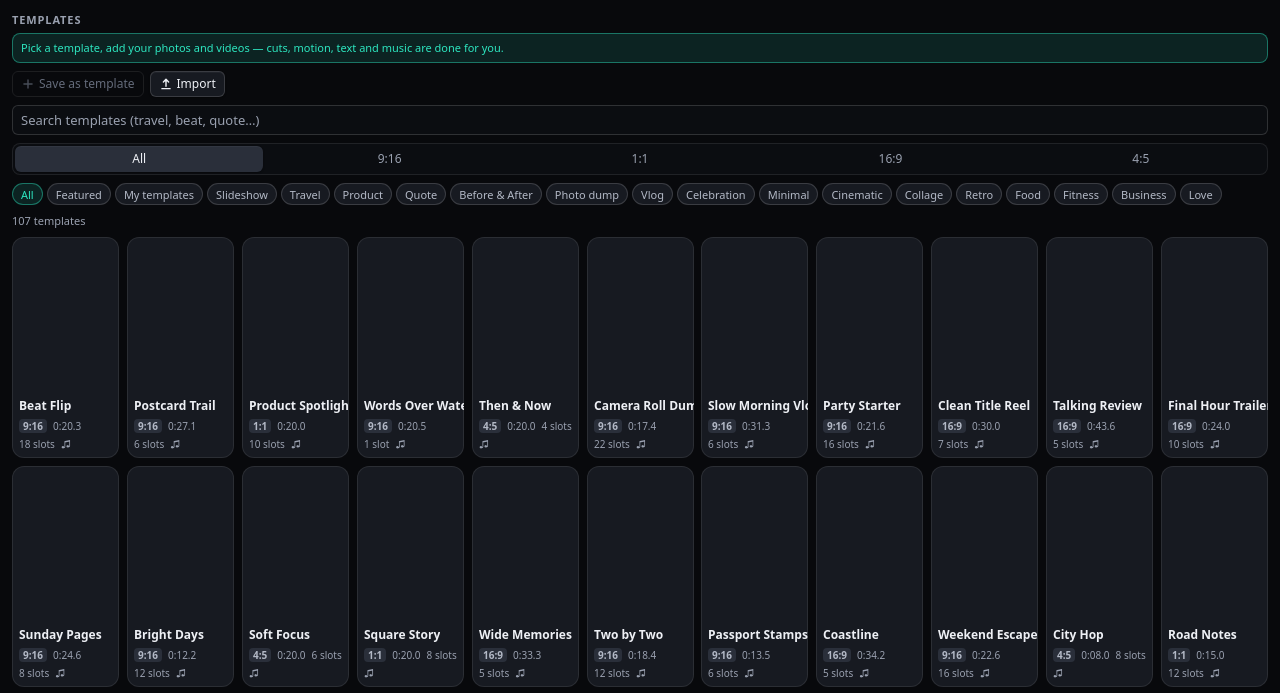
Test case: Templates panel — gallery › filters by search, aspect and category
Type "postcard" into the search field labelled "Search templates".
click(640, 120); type("postcard")  # box [12,105,1268,135]
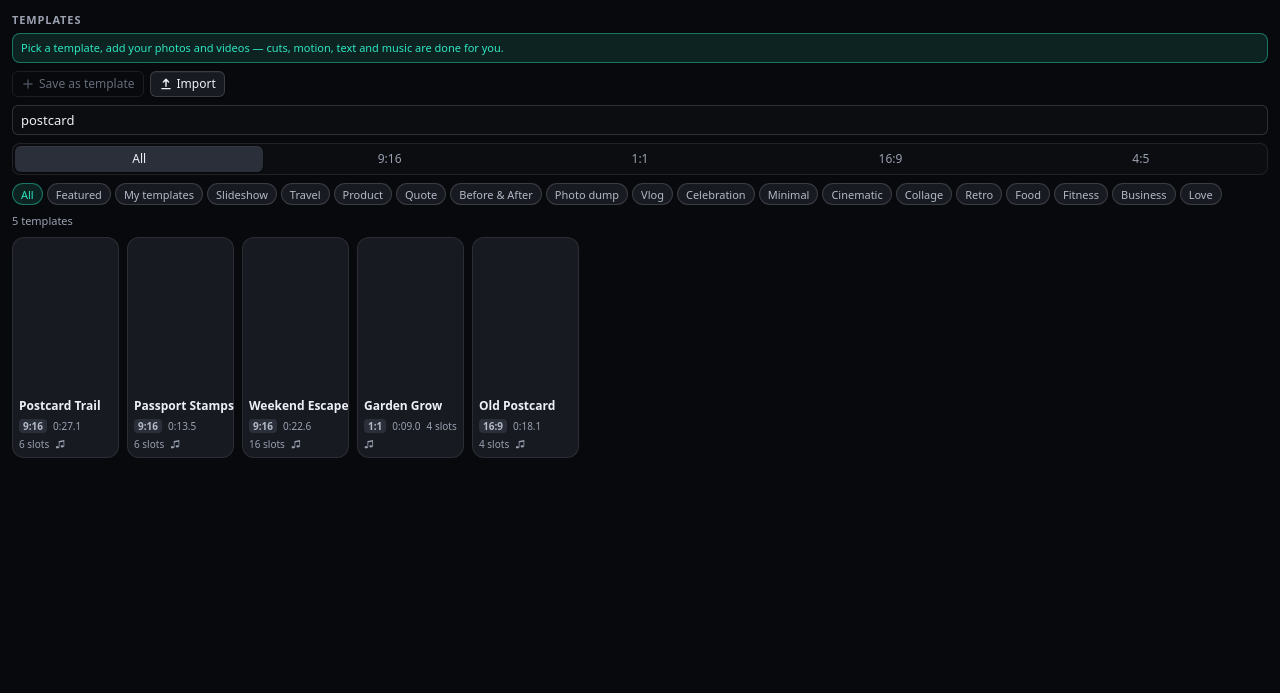
Clear the search field named "Search templates" at (640, 120), box [12,105,1268,135]
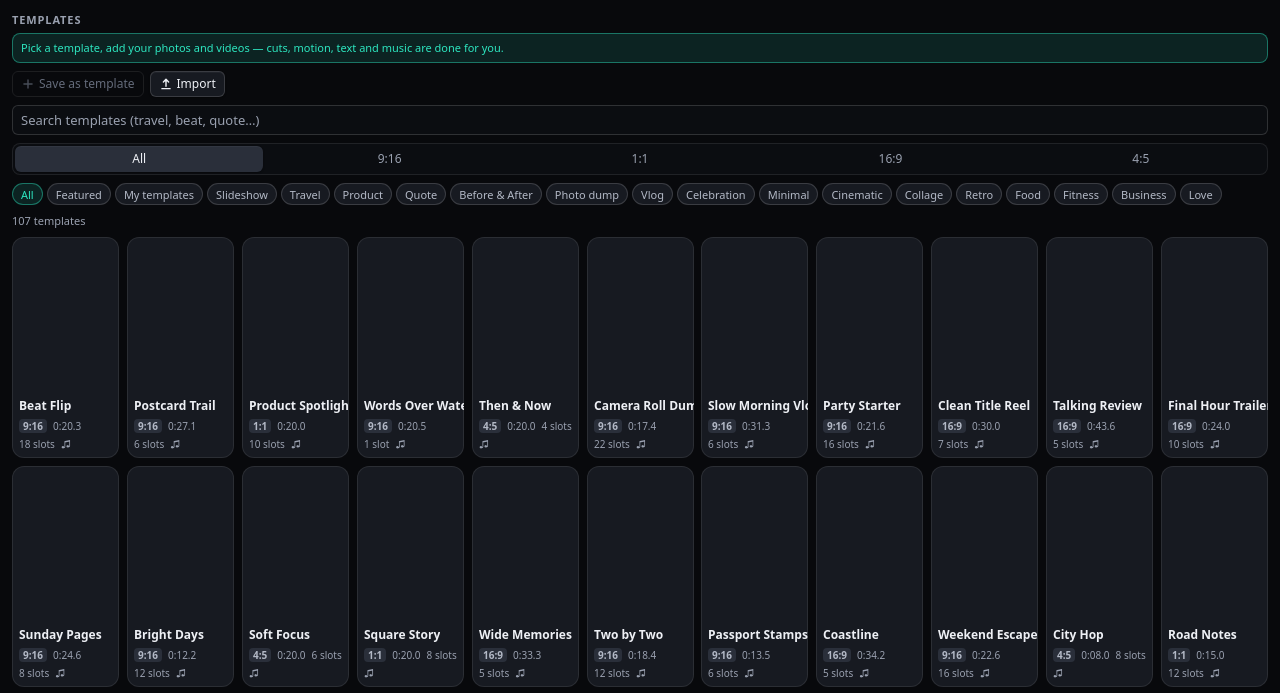
Click the radio button labelled "16:9".
click(890, 159)  # box [766,146,1015,172]
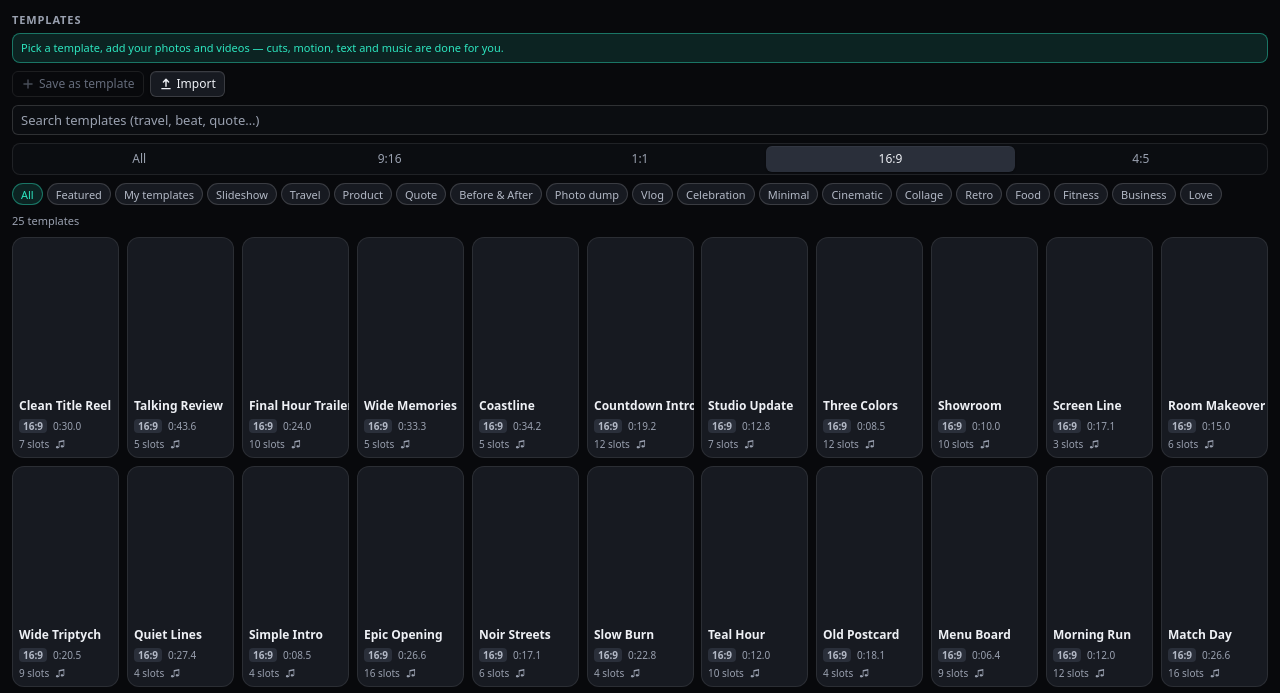
Now the number of buttons named "Open template " is 25
Click the tab "Travel".
click(305, 194)  # box [281,183,330,205]
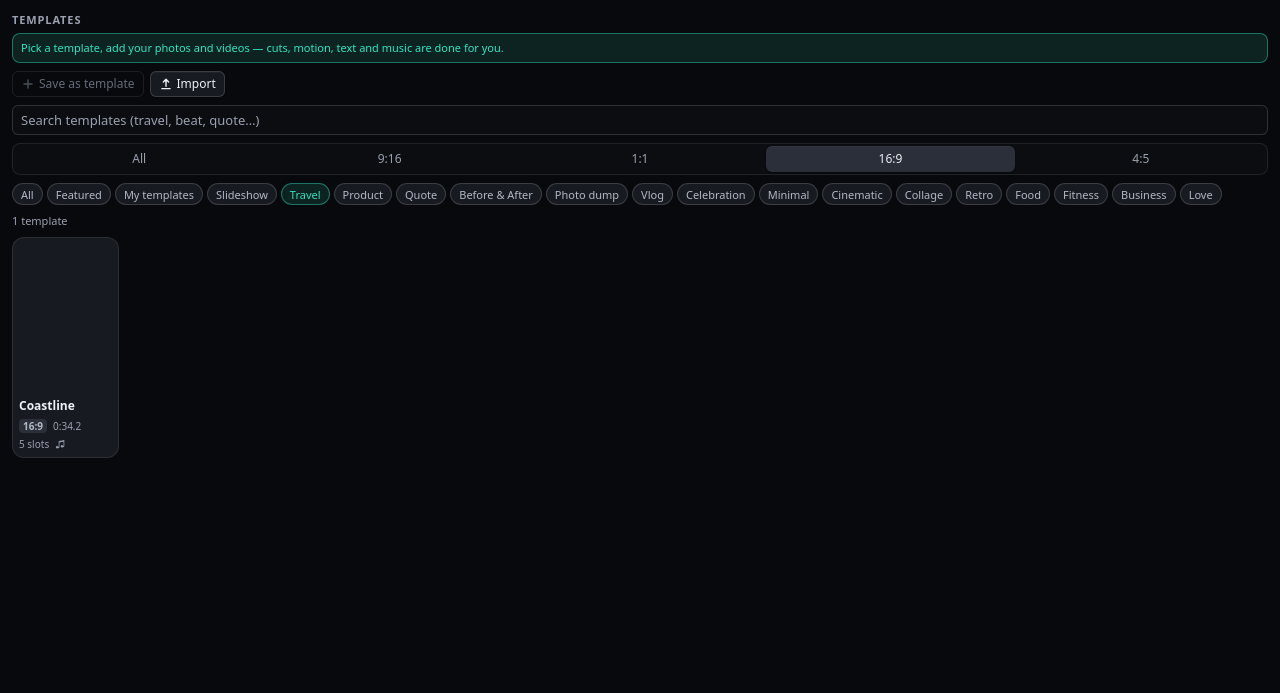
Now the number of buttons named "Open template " is 1, box [12,237,119,458]
Click the radio button labelled "All".
click(139, 159)  # box [15,146,263,172]
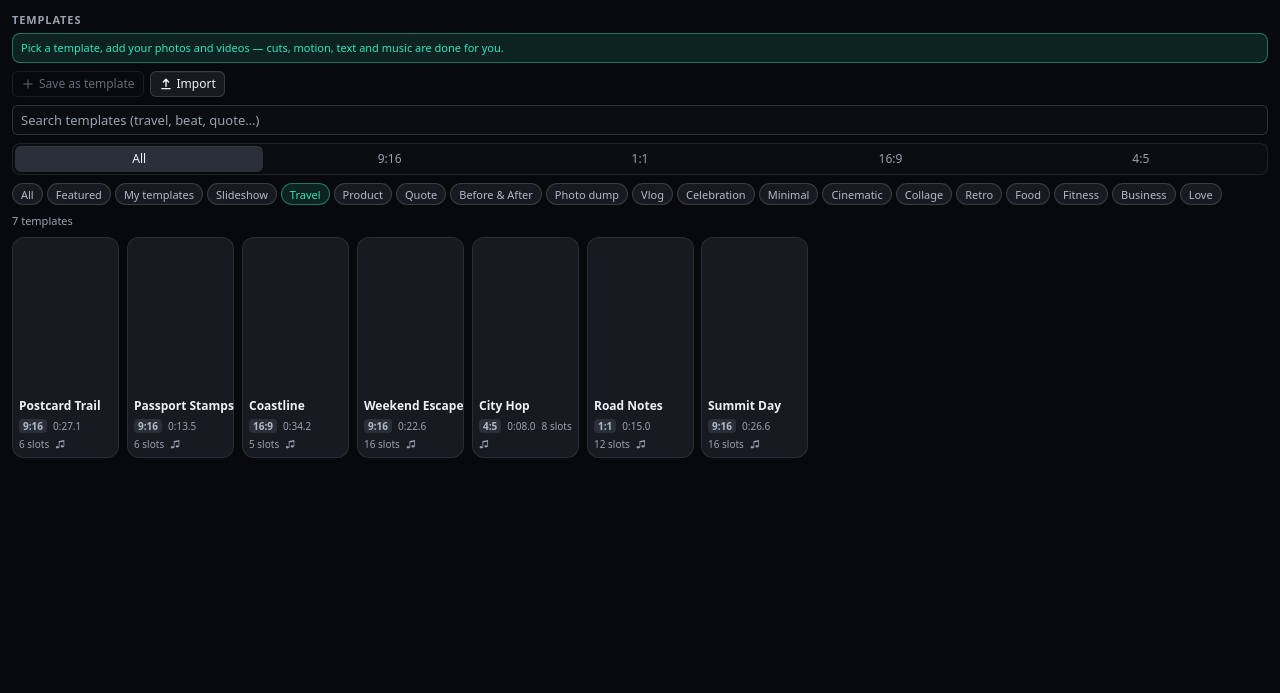
Click the tab "Featured".
click(79, 194)  # box [47,183,111,205]
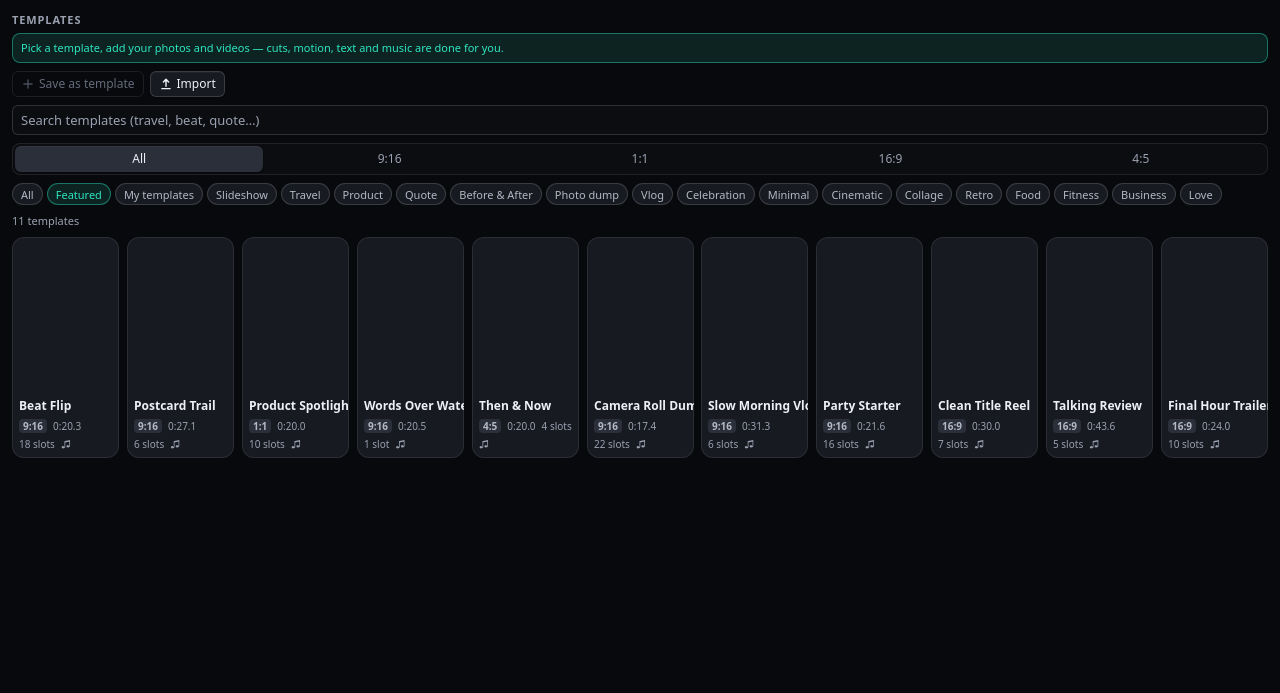
Now the number of buttons named "Open template " is 11
